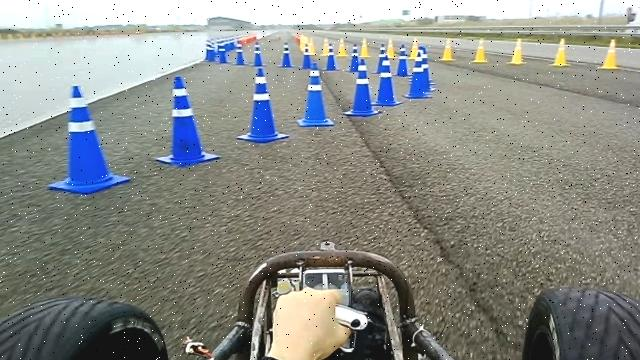blue cone: (46, 84, 130, 195), (154, 75, 221, 166), (235, 66, 290, 143), (296, 62, 335, 127), (342, 59, 382, 117), (371, 53, 402, 107), (403, 51, 432, 98)
yellow cone: (597, 38, 620, 70), (550, 37, 570, 67), (506, 37, 527, 65), (470, 38, 489, 63), (438, 39, 456, 62)
